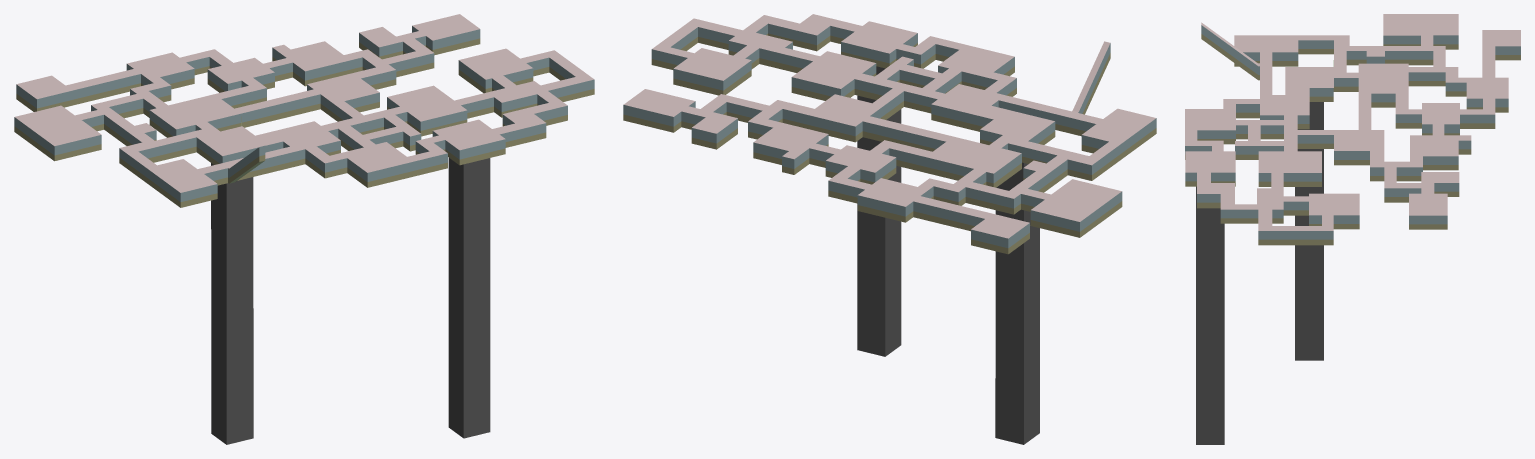
Rendered from Level.fbx.
3 views of the same model, side by side, from view 1: azimuth 30°, elevation 25°; view 2: azimuth 150°, elevation 25°; view 3: azimuth 270°, elevation 25° (orthographic). The views are drawn at different scales.
Parts seen in each view (by area): view 1: Ceiling, Walls, Holes; view 2: Ceiling, Walls, Holes; view 3: Ceiling, Walls, Holes.
Part boxes in pixels (x1,y1,x2,y2): Ceiling: (15, 14, 594, 192); Walls: (14, 26, 594, 207); Holes: (211, 158, 490, 444); Ceiling: (623, 14, 1155, 238); Walls: (623, 23, 1156, 254); Holes: (857, 66, 1039, 444); Ceiling: (1185, 14, 1520, 230); Walls: (1185, 25, 1520, 245); Holes: (1196, 102, 1323, 444).
Bounding box in the file's own units: 114 × 77.94 × 74.56.
